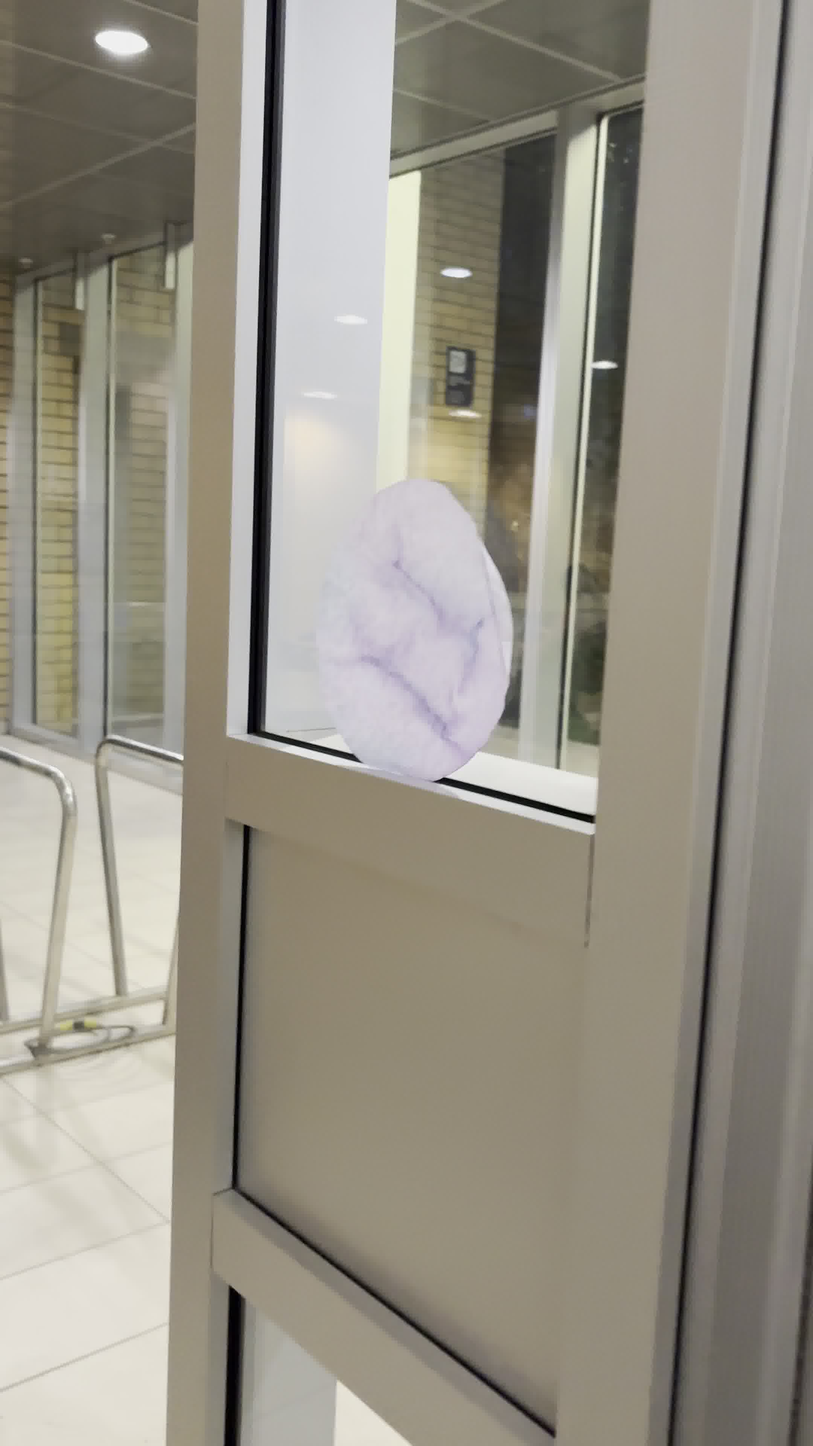Target: (314, 475, 515, 786)
